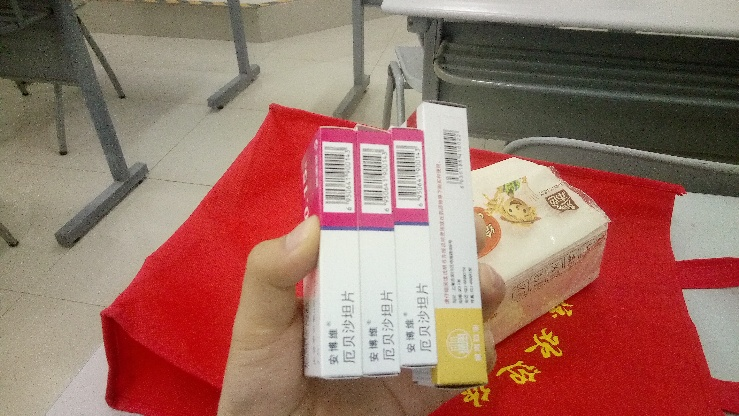pillbox: (417, 99, 491, 396), (301, 128, 364, 378), (389, 121, 440, 372), (354, 123, 402, 375)
